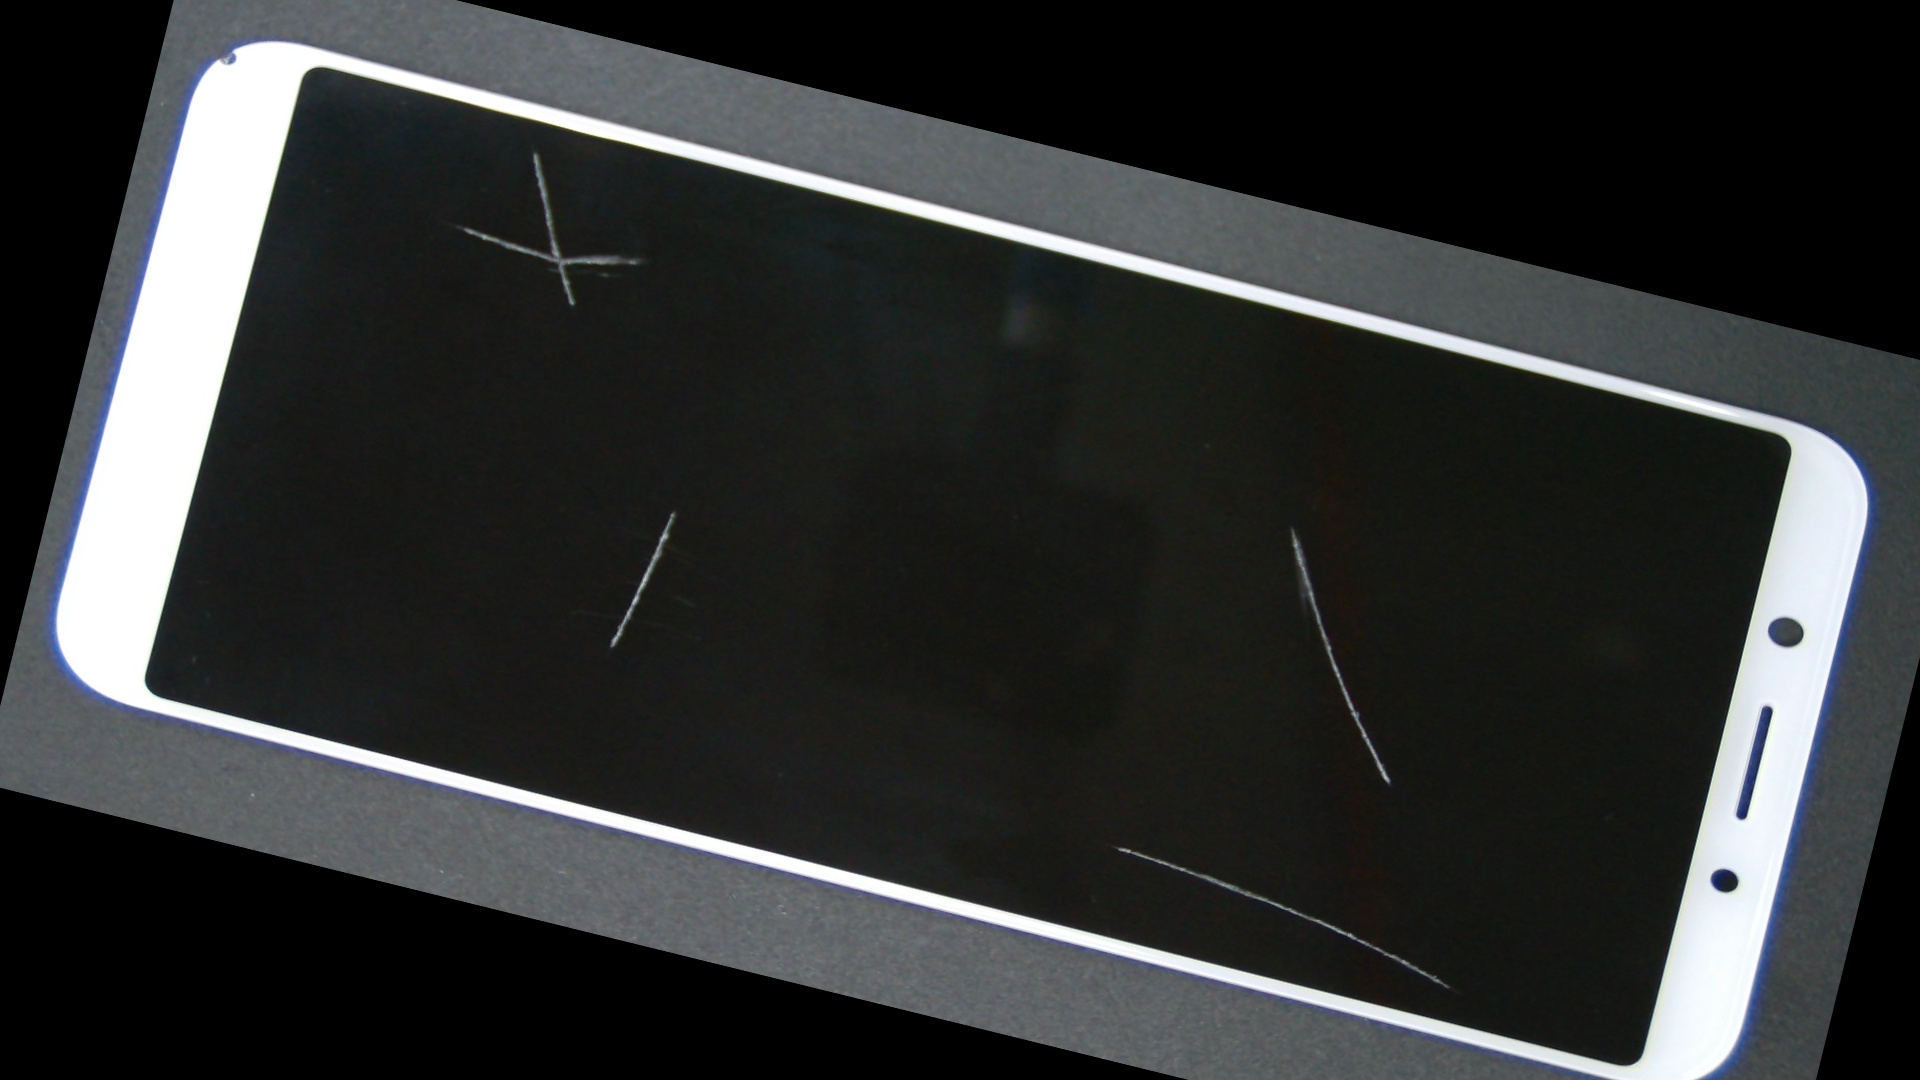oil: (530, 390, 1755, 1080), (667, 231, 1919, 824), (327, 223, 1023, 800), (334, 44, 742, 261)
